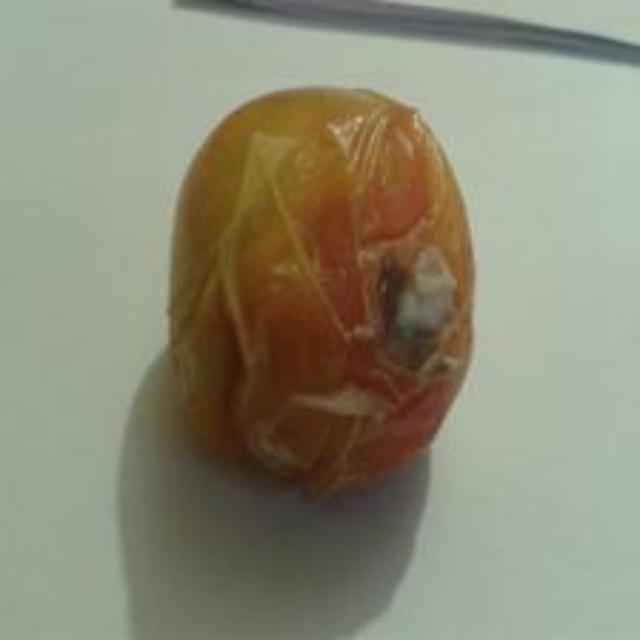defect: (157, 70, 488, 511)
